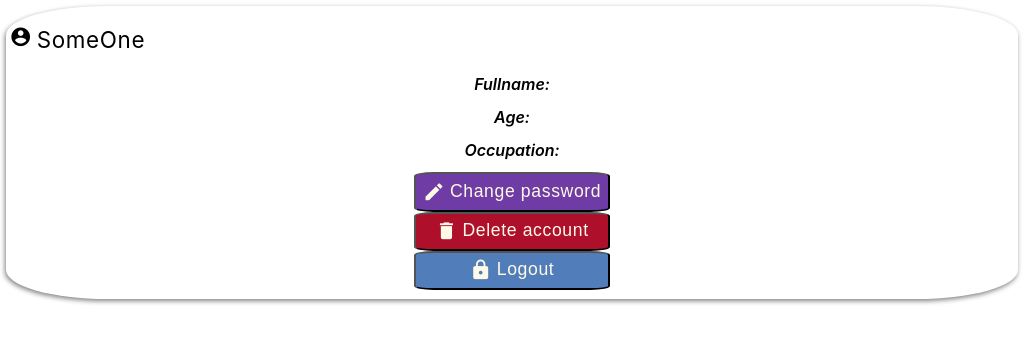
Test: Profile item component test - success screen › Login, delete acccount, canceled
This screenshot has width=1024, height=362.
Click the text "Delete account": click(526, 231) [462, 222, 589, 240]
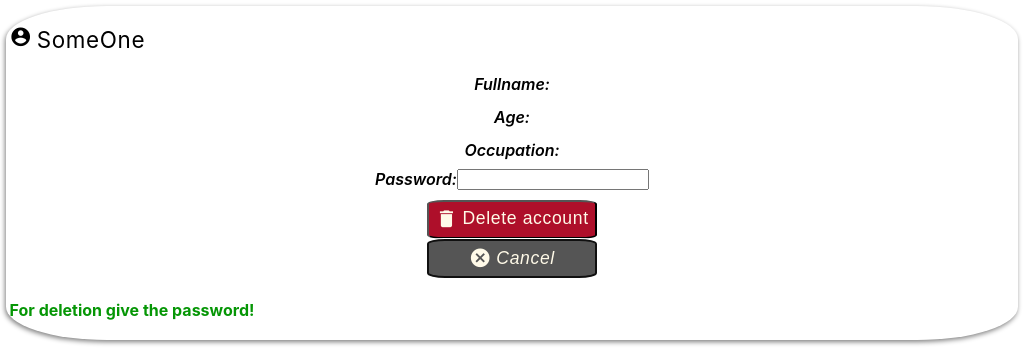
Result: the password field labelled "Password:" is shown at [457, 169, 649, 190]
Result: the text "Delete account" is shown at [462, 210, 589, 228]
Result: the icon "Cancel" is shown
Click the icon "Cancel": click(526, 258) [496, 250, 555, 267]
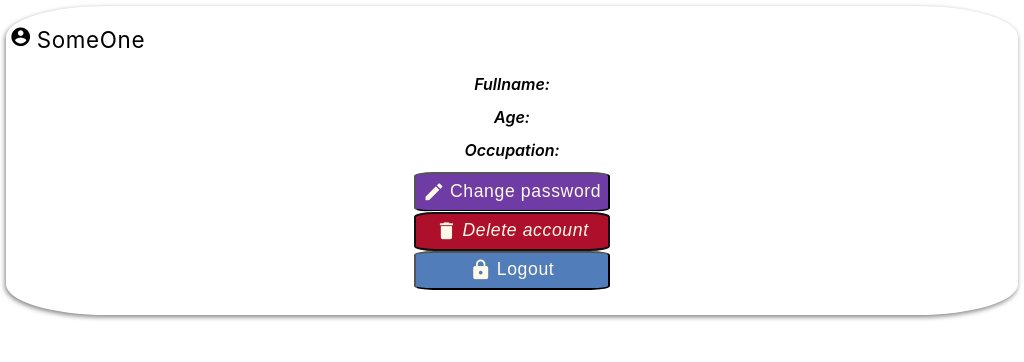
Result: the label labelled "Password:" is gone
Result: the button "Cancel" is gone
Result: the text "Delete account" is shown at [462, 222, 589, 240]
